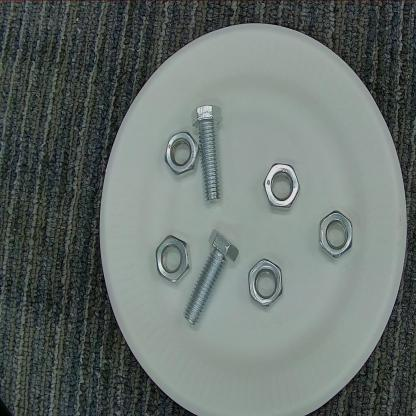FOD: (181, 230, 247, 328), (192, 97, 226, 207), (258, 157, 306, 215), (154, 232, 194, 288), (317, 210, 358, 260), (248, 258, 287, 307), (166, 131, 198, 181)
